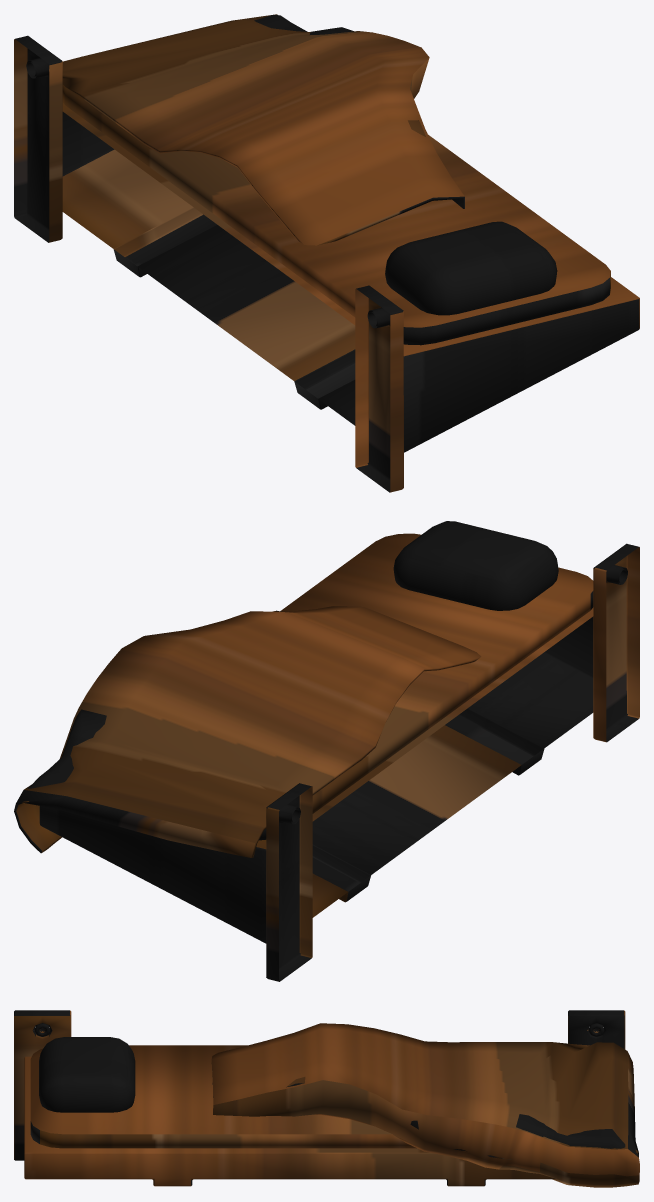
File: Bed2.fbx
3 renders of one model, top to bottom at view 1: azimuth 30°, elevation 25°; view 2: azimuth 150°, elevation 25°; view 3: azimuth 270°, elevation 25°, orthographic. The views are drawn at different scales.
Visible parts, largest first — view 1: Bed2; view 2: Bed2; view 3: Bed2.
Boxes of the visible parts, x1,y1,x2,y2 form: Bed2: (14,14,639,492); Bed2: (14,521,639,981); Bed2: (14,1010,639,1187).
Size of the model in its own units: 1.79 by 1.22 by 4.16.
